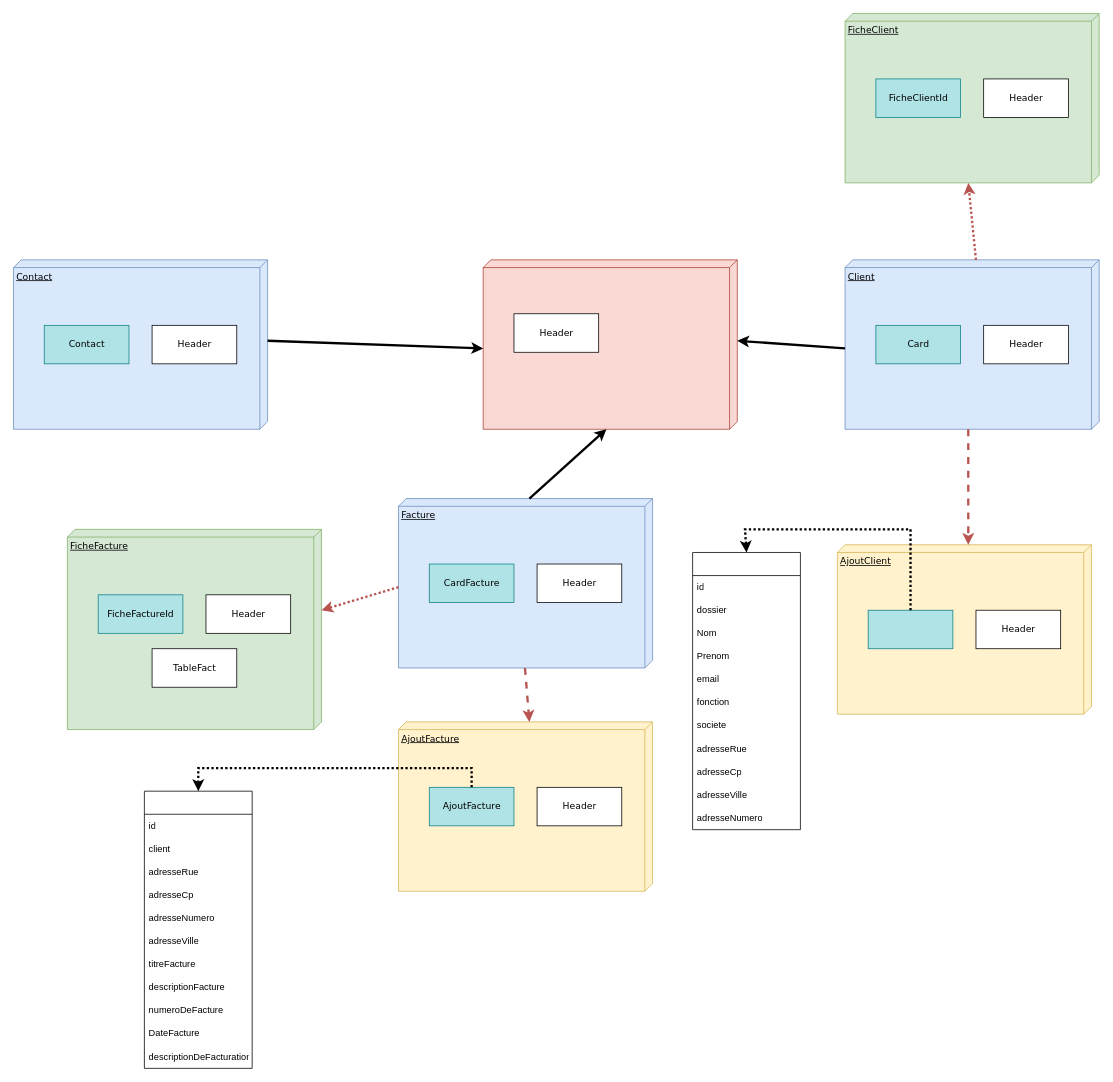
Some shapes in this 1113 by 1082 pixel diagram are drawn without their labels. Each missing label, with the box of its shape:
BDD : Client: (692, 552, 800, 830)
BDD : Factures: (144, 790, 252, 1068)
FormClient: (867, 609, 953, 649)
Page Home: (482, 259, 737, 429)
